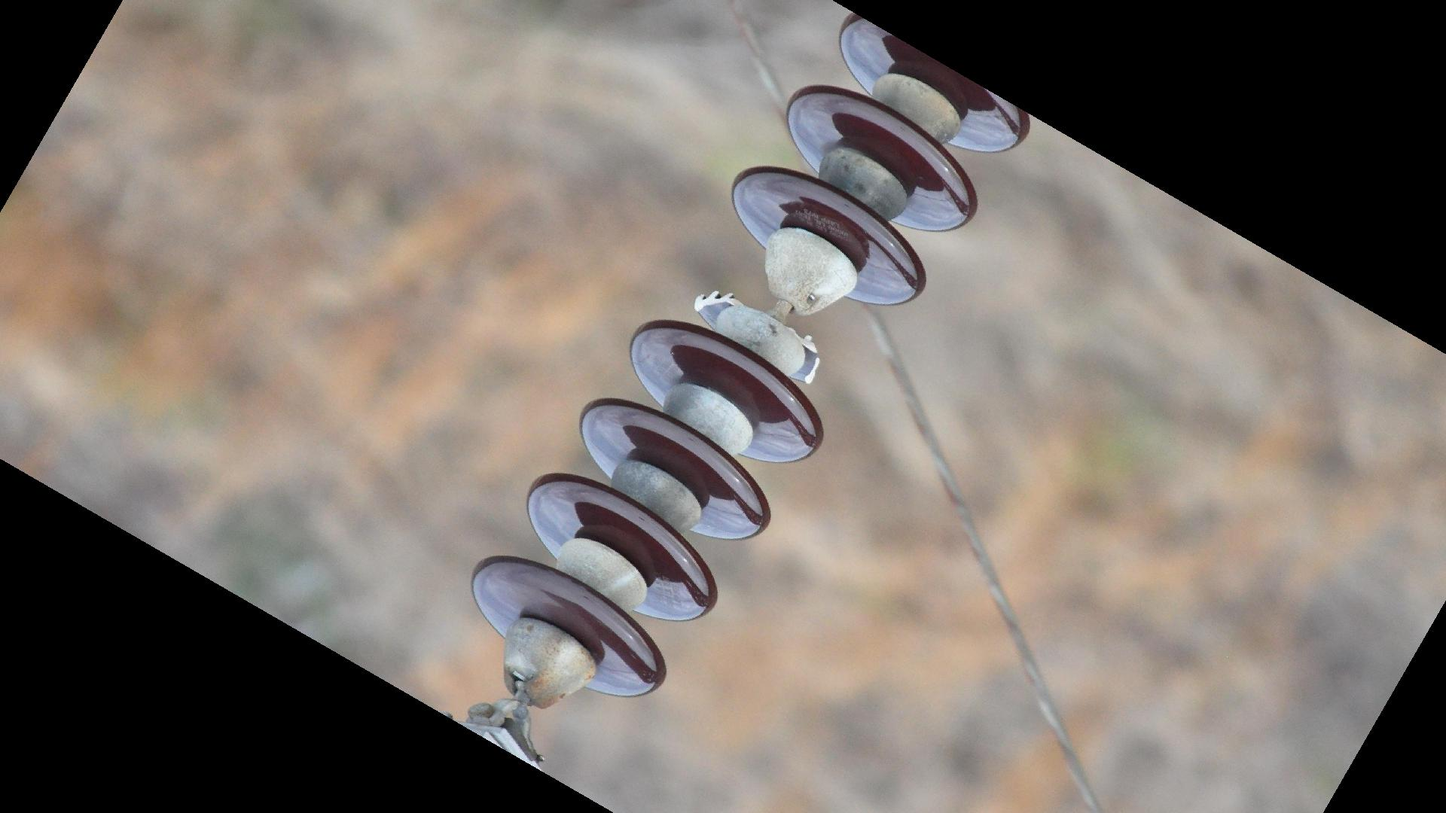insulator: (465, 11, 1040, 706)
insulator_breakage: (684, 287, 830, 391)
